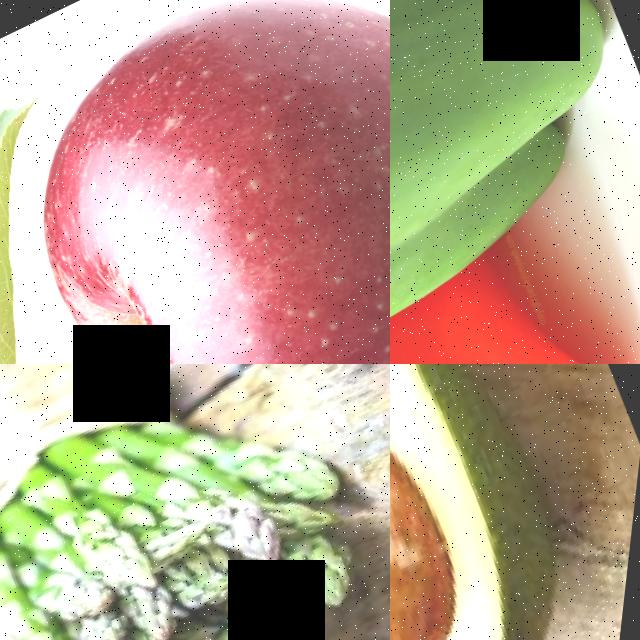apple: (0, 0, 390, 364)
asparagus: (158, 400, 324, 591), (51, 446, 189, 614), (0, 552, 129, 640)
avocado: (390, 364, 640, 640)
bell pepper: (390, 0, 640, 364), (390, 264, 627, 364)
